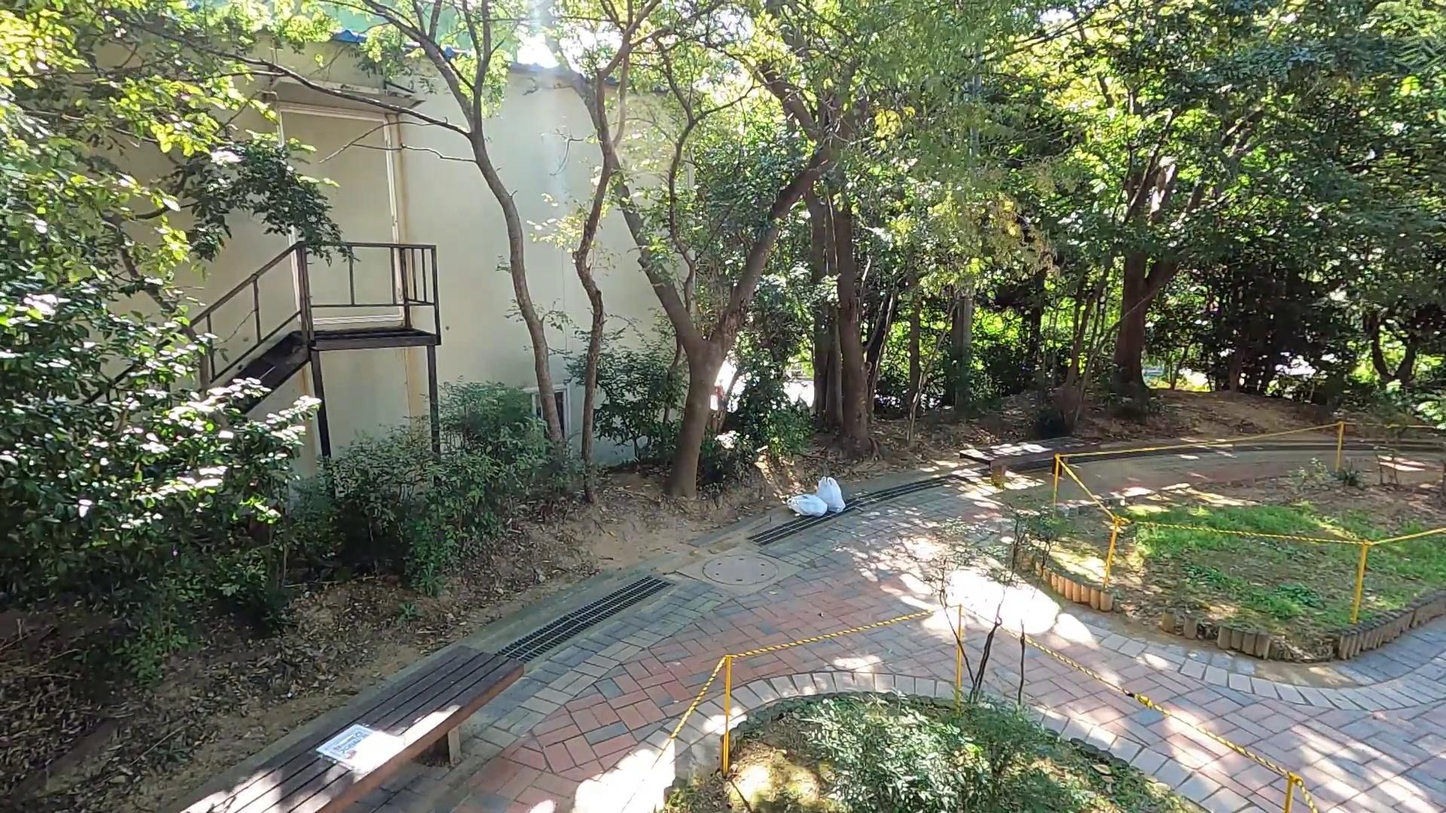trash: (811, 470, 848, 519), (784, 491, 830, 519)
